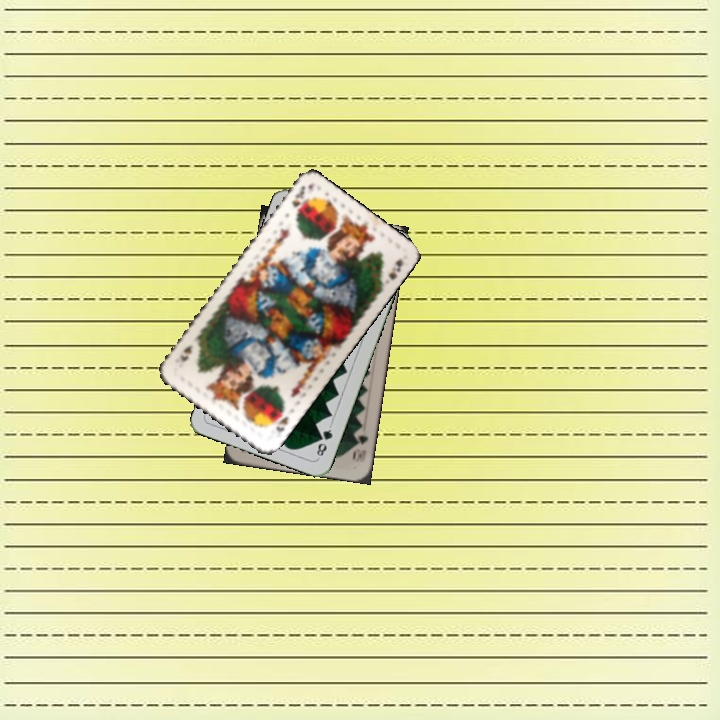G10: (351, 430, 370, 465)
G8: (312, 422, 335, 461)
SK: (268, 403, 291, 435), (287, 182, 308, 210)
